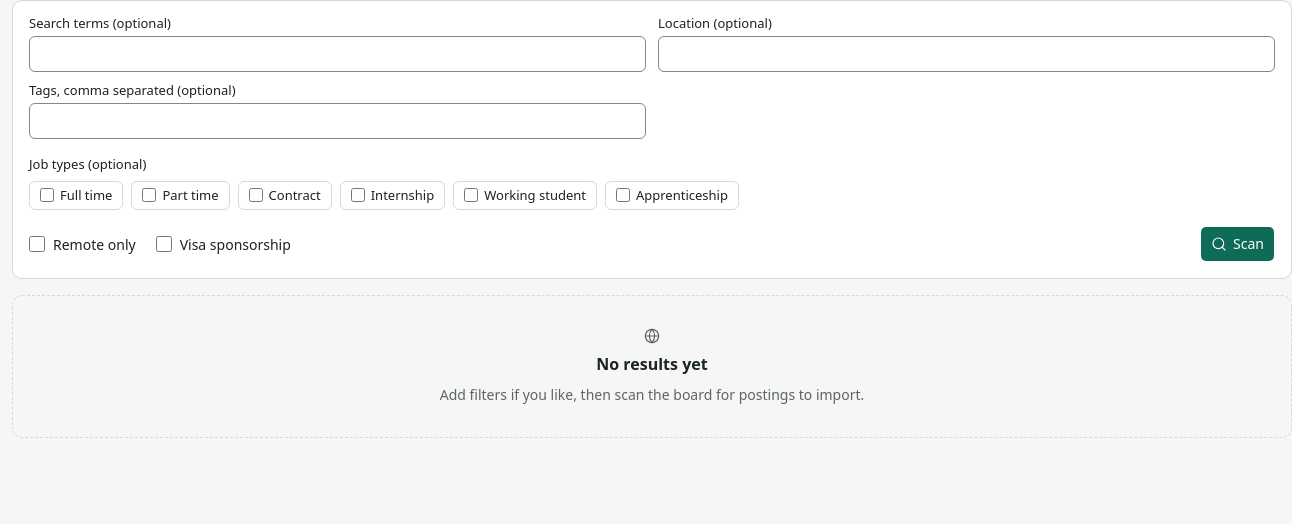
Scenario: ArbeitnowPage import › shows the import progress copy and locks the controls during an import
Step 1. Click the button with test id "arbeitnowScanButton" → (1238, 244), box top-left (1200, 226), bottom-right (1275, 262)
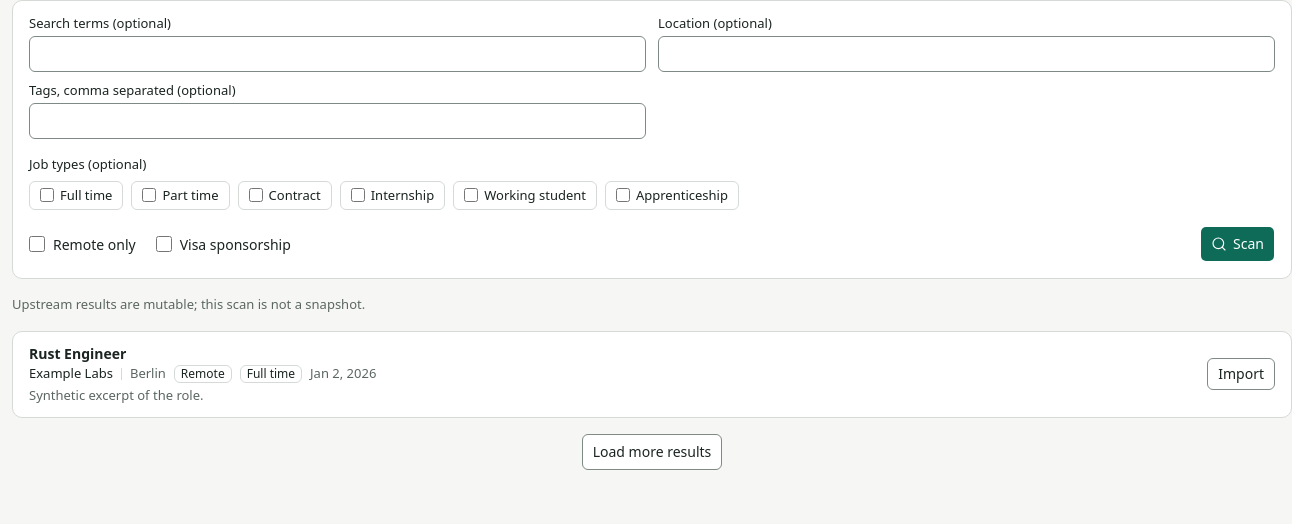
Step 2. Click the button with test id "arbeitnowImportButton" → (1241, 374), box top-left (1207, 358), bottom-right (1275, 390)
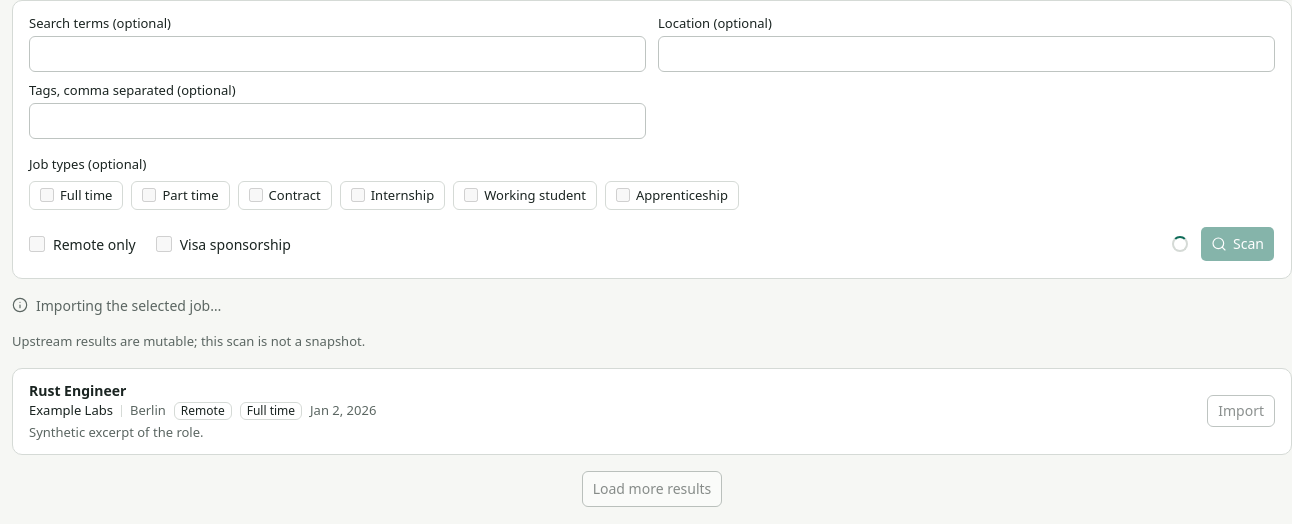
Expected: the message with test id "arbeitnowStatusLabel" reads "Importing the selected job…", top-left (36, 296), bottom-right (221, 315)
Expected: the button with test id "arbeitnowScanButton" is disabled, top-left (1200, 226), bottom-right (1275, 262)
Expected: the button with test id "arbeitnowImportButton" is disabled, top-left (1207, 395), bottom-right (1275, 427)
